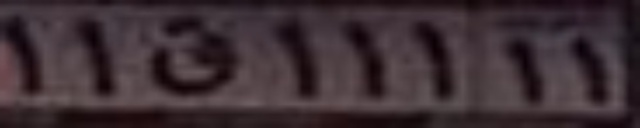1: (334, 19, 389, 97), (269, 19, 321, 97), (410, 18, 456, 98), (68, 18, 116, 94), (5, 13, 47, 94), (571, 34, 611, 106), (506, 34, 544, 101)
ghaf: (138, 14, 244, 95)
